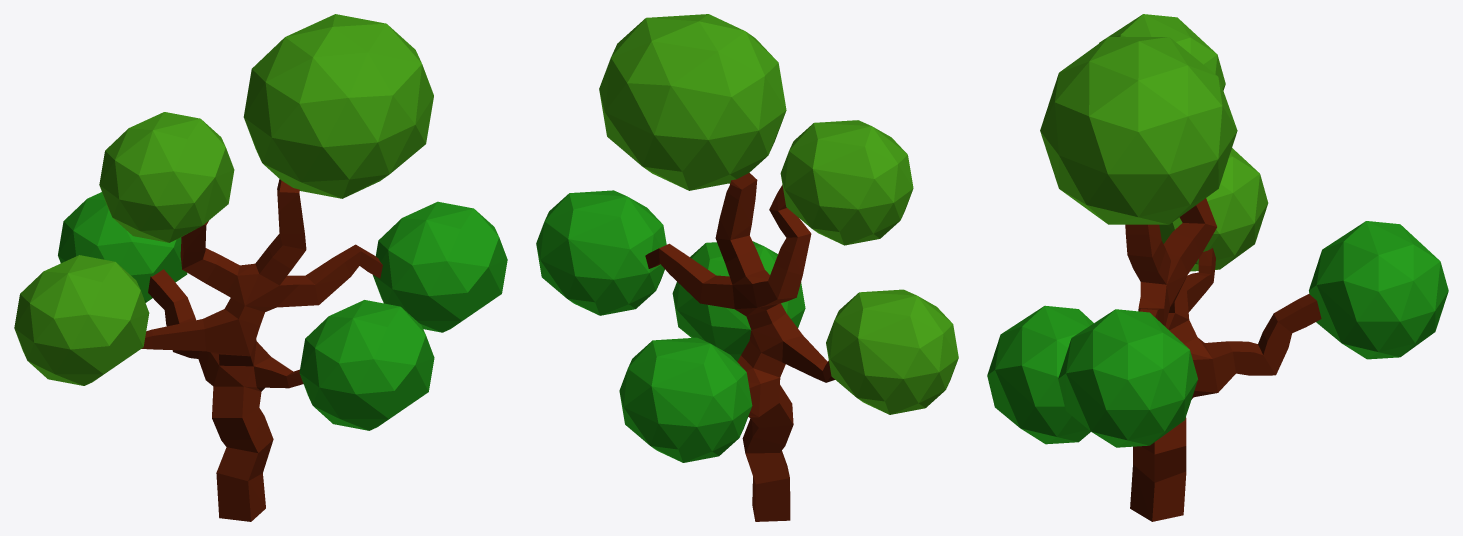
Rendered from tree2.fbx.
3 renders of one model, left to right at view 1: azimuth 30°, elevation 25°; view 2: azimuth 150°, elevation 25°; view 3: azimuth 270°, elevation 25°, orthographic. The views are drawn at different scales.
Visible parts, largest first — view 1: Icosphere.003, Icosphere.002, Cube; view 2: Icosphere.003, Icosphere.002, Cube; view 3: Icosphere.002, Icosphere.003, Cube.
Boxes of the visible parts, left/top/right/bottom form: Icosphere.003: left=14, top=14, right=433, bottom=385; Icosphere.002: left=58, top=192, right=507, bottom=430; Cube: left=141, top=179, right=382, bottom=521; Icosphere.003: left=599, top=14, right=958, bottom=414; Icosphere.002: left=536, top=190, right=805, bottom=462; Cube: left=645, top=173, right=834, bottom=521; Icosphere.002: left=987, top=221, right=1448, bottom=447; Icosphere.003: left=1040, top=14, right=1268, bottom=271; Cube: left=1125, top=198, right=1321, bottom=521.
Bounding box in the file's own units: 721 × 740 × 601.
